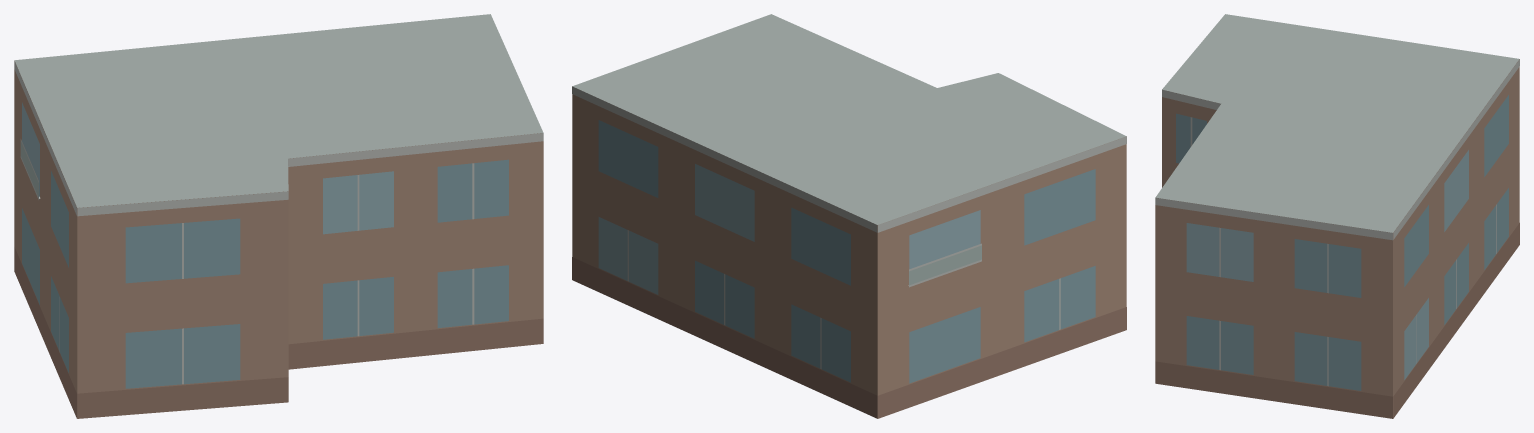
The model's file is survey-upis-32525048.glb.
3 renders of one model, left to right at view 1: azimuth 30°, elevation 25°; view 2: azimuth 150°, elevation 25°; view 3: azimuth 270°, elevation 25°, orthographic. The views are drawn at different scales.
Parts seen in each view (by area): view 1: survey-upis-32525048.tmp; view 2: survey-upis-32525048.tmp; view 3: survey-upis-32525048.tmp.
Part boxes in pixels (x1,y1,x2,y2): survey-upis-32525048.tmp: (14, 14, 543, 418); survey-upis-32525048.tmp: (572, 14, 1126, 418); survey-upis-32525048.tmp: (1155, 14, 1519, 418).
Size of the model in its own units: 15.41 by 6.1 by 10.84.
